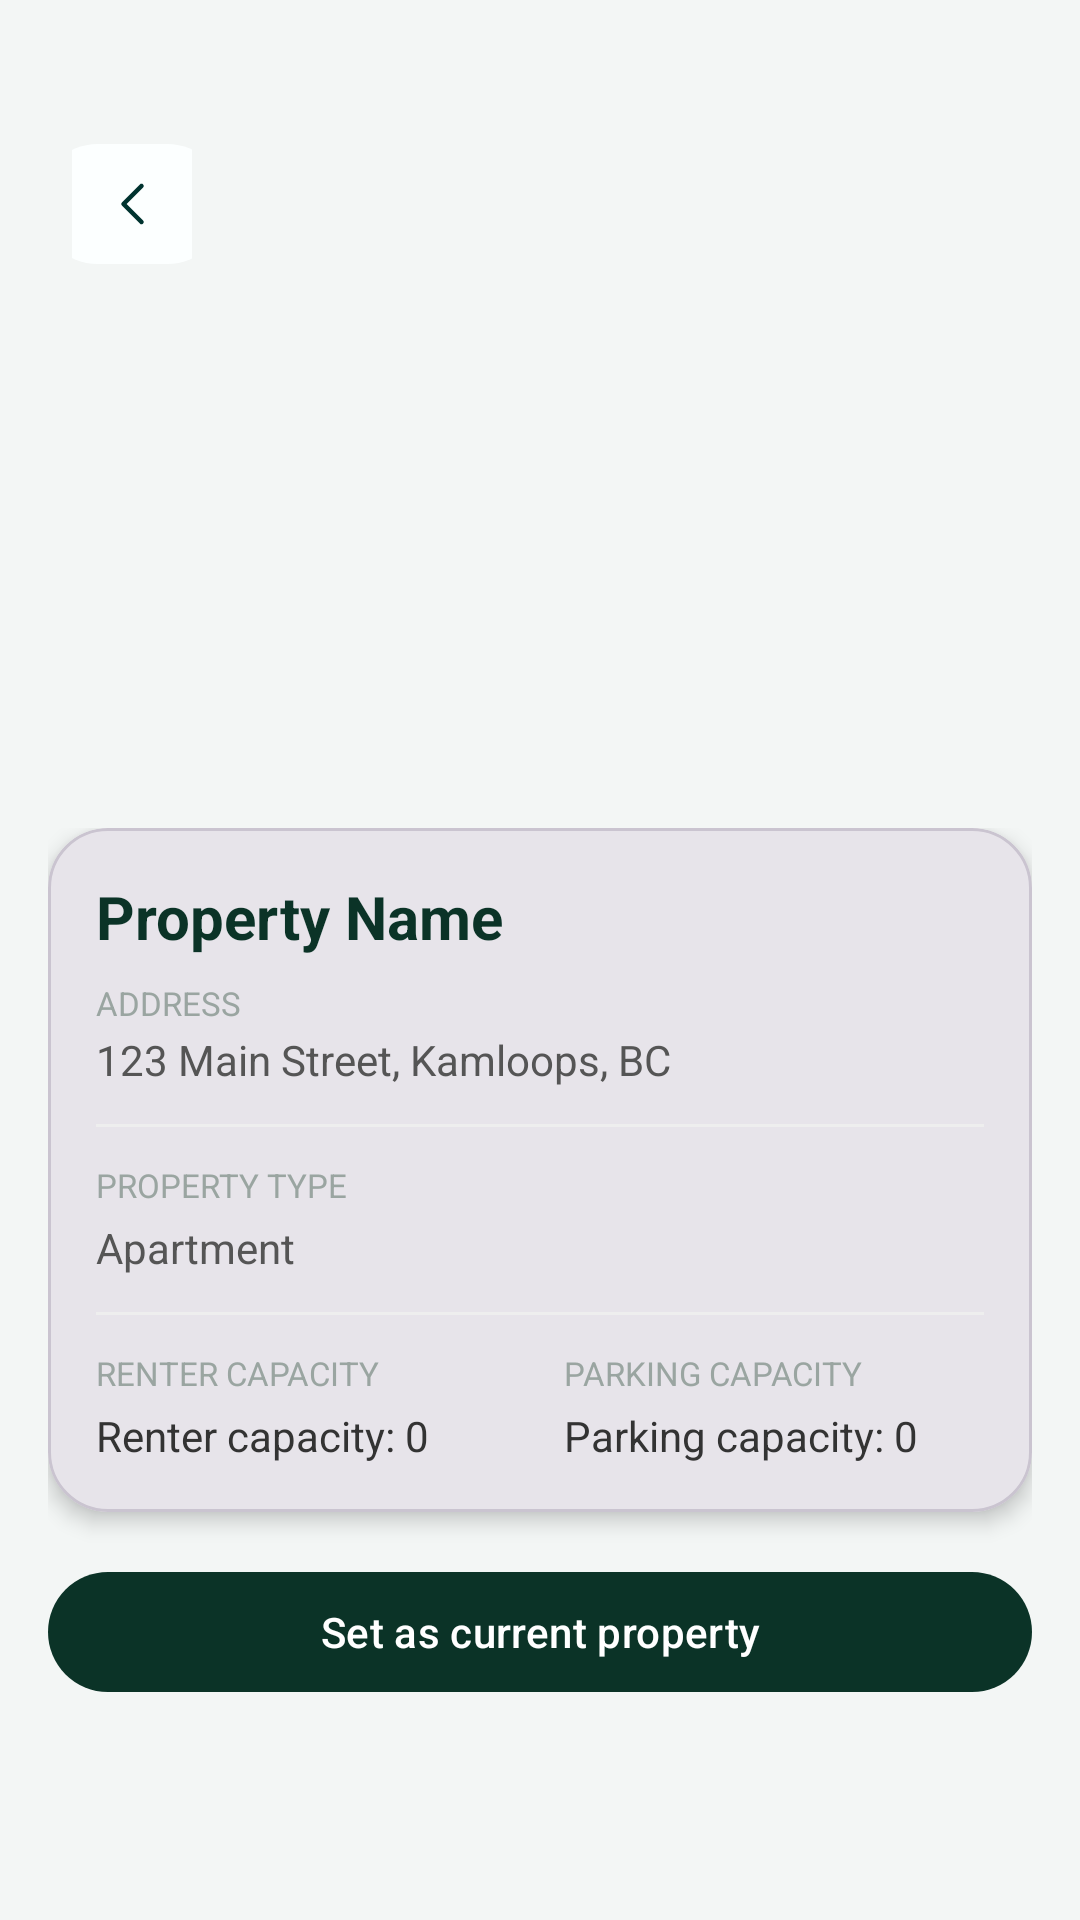

Screen size 1080*1920. Icon name, then its box in pixels as {"x1": x1, "y1": y1, "x2": x2, "y2": y2}:
back: {"x1": 72, "y1": 144, "x2": 192, "y2": 264}
